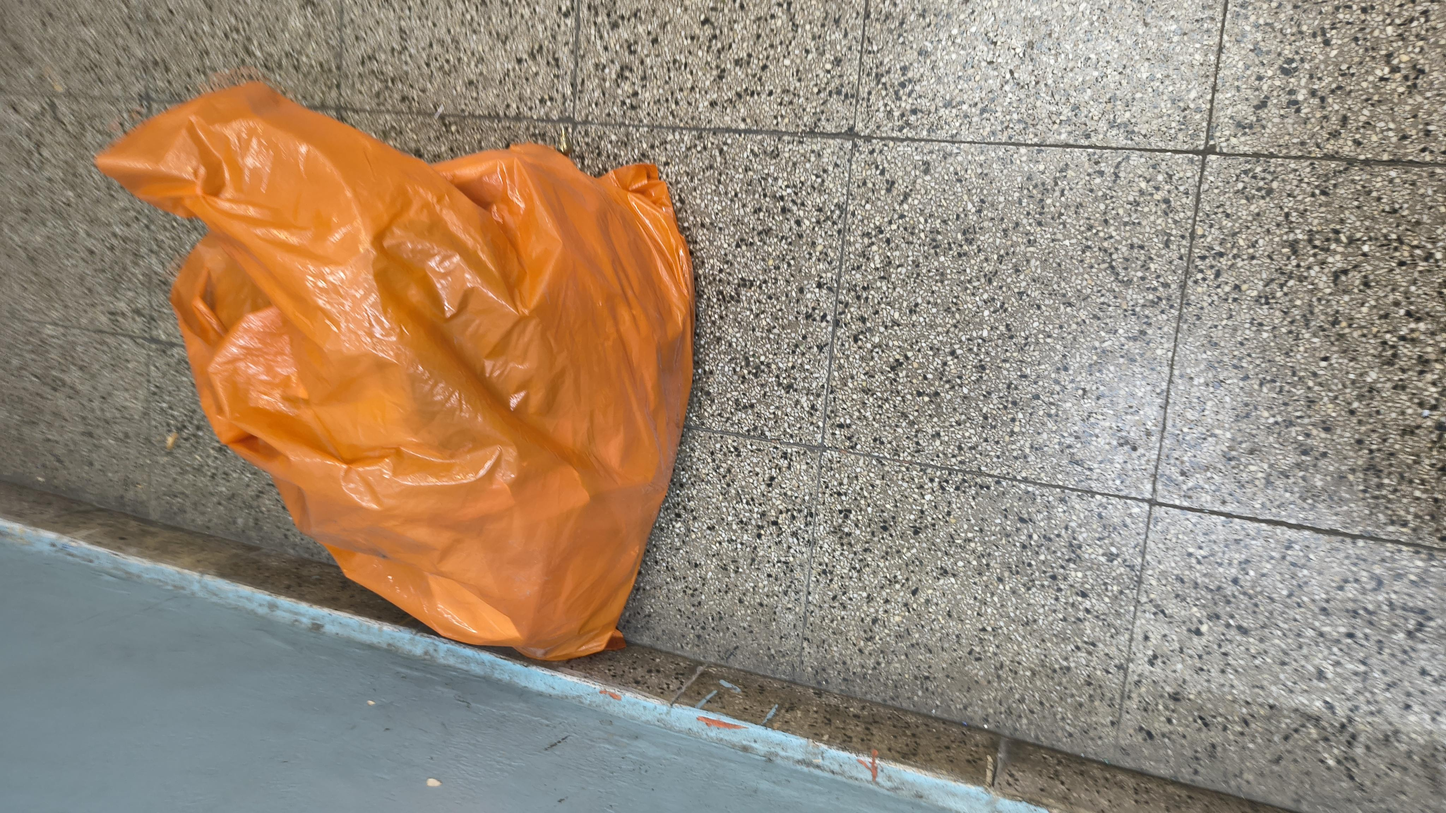Garbage: (245, 22, 1343, 409)
